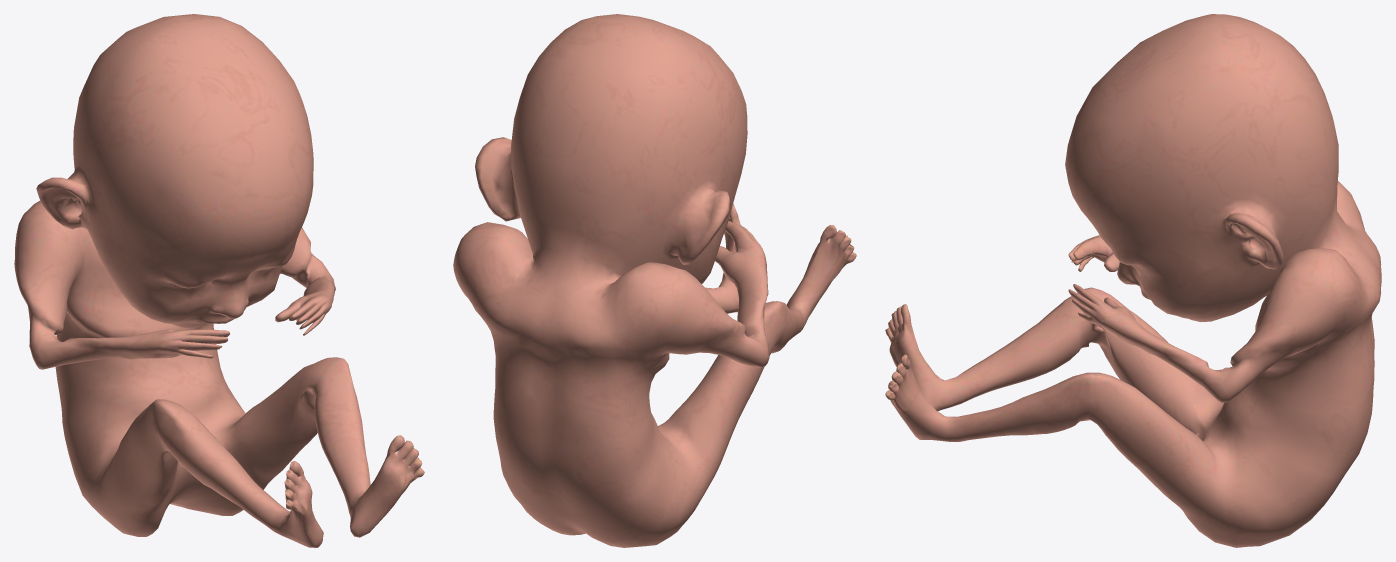
The picture shows the model from 3 angles, left to right: view 1: azimuth 30°, elevation 25°; view 2: azimuth 150°, elevation 25°; view 3: azimuth 270°, elevation 25°; orthographic projection.
Visible parts, largest first — view 1: Baby; view 2: Baby; view 3: Baby.
Part boxes in pixels (x1=…): Baby: x1=14, y1=14, x2=424, y2=547; Baby: x1=453, y1=14, x2=856, y2=547; Baby: x1=885, y1=14, x2=1381, y2=547.
Bounding box in the file's own units: 0.1028 × 0.1663 × 0.1494.
Materials: 1 (1 with a texture image).
